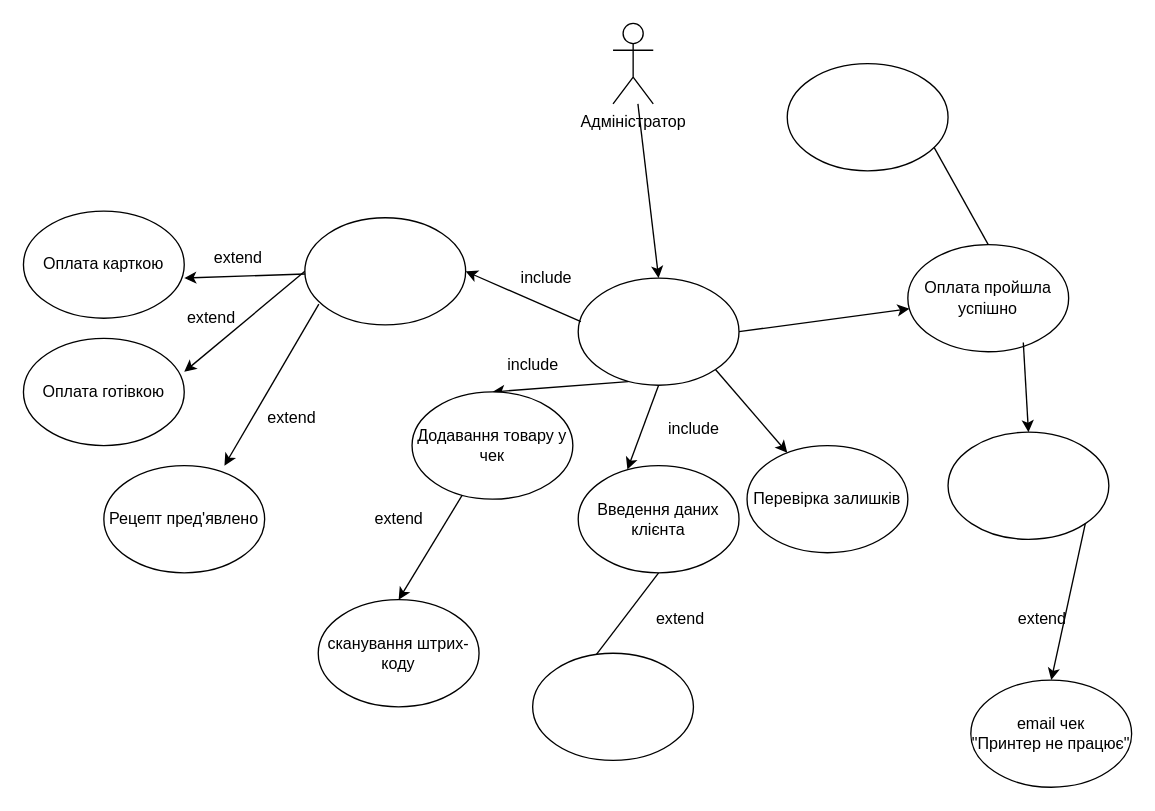
Image size: 1155x811. Some labels were removed from this diagram. The centre of each missing label's shape, as x and y in pixels:
"Вибір способу оплати" goes at [385,270].
"Друк чеку" goes at [1028,485].
"Оновлення складу" goes at [867,116].
"Повідомлення про відсутність клієнта" goes at [612,706].
"Продаж товару" goes at [658,331].
